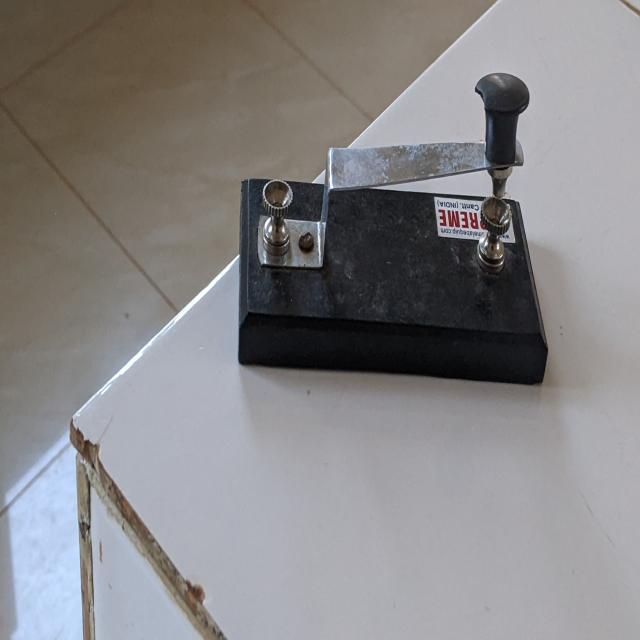Press Key: (233, 62, 579, 400)
